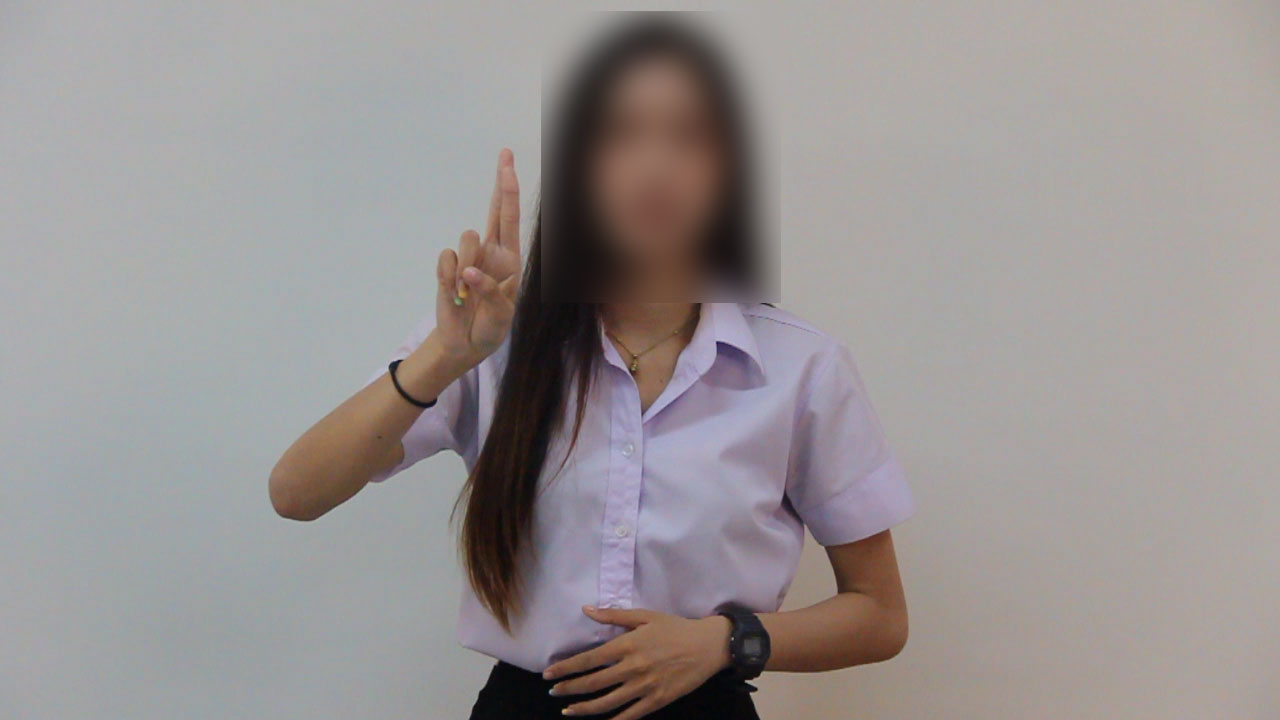rao: (419, 143, 529, 401)
